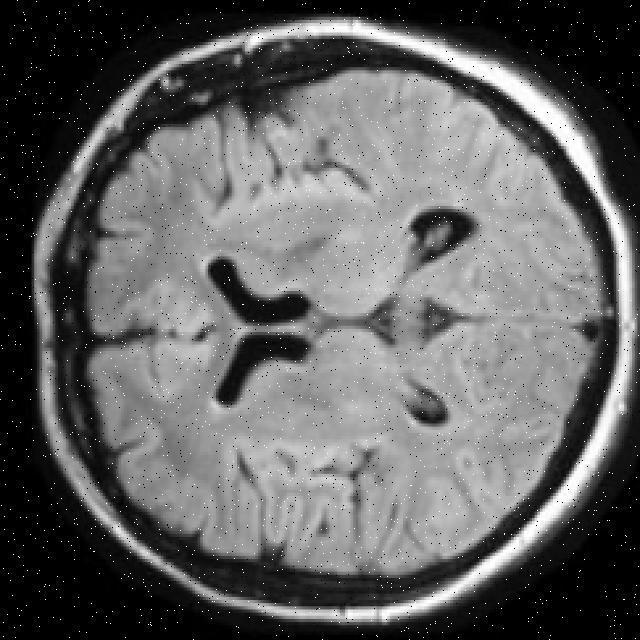No_Tumor: (35, 20, 634, 623)
